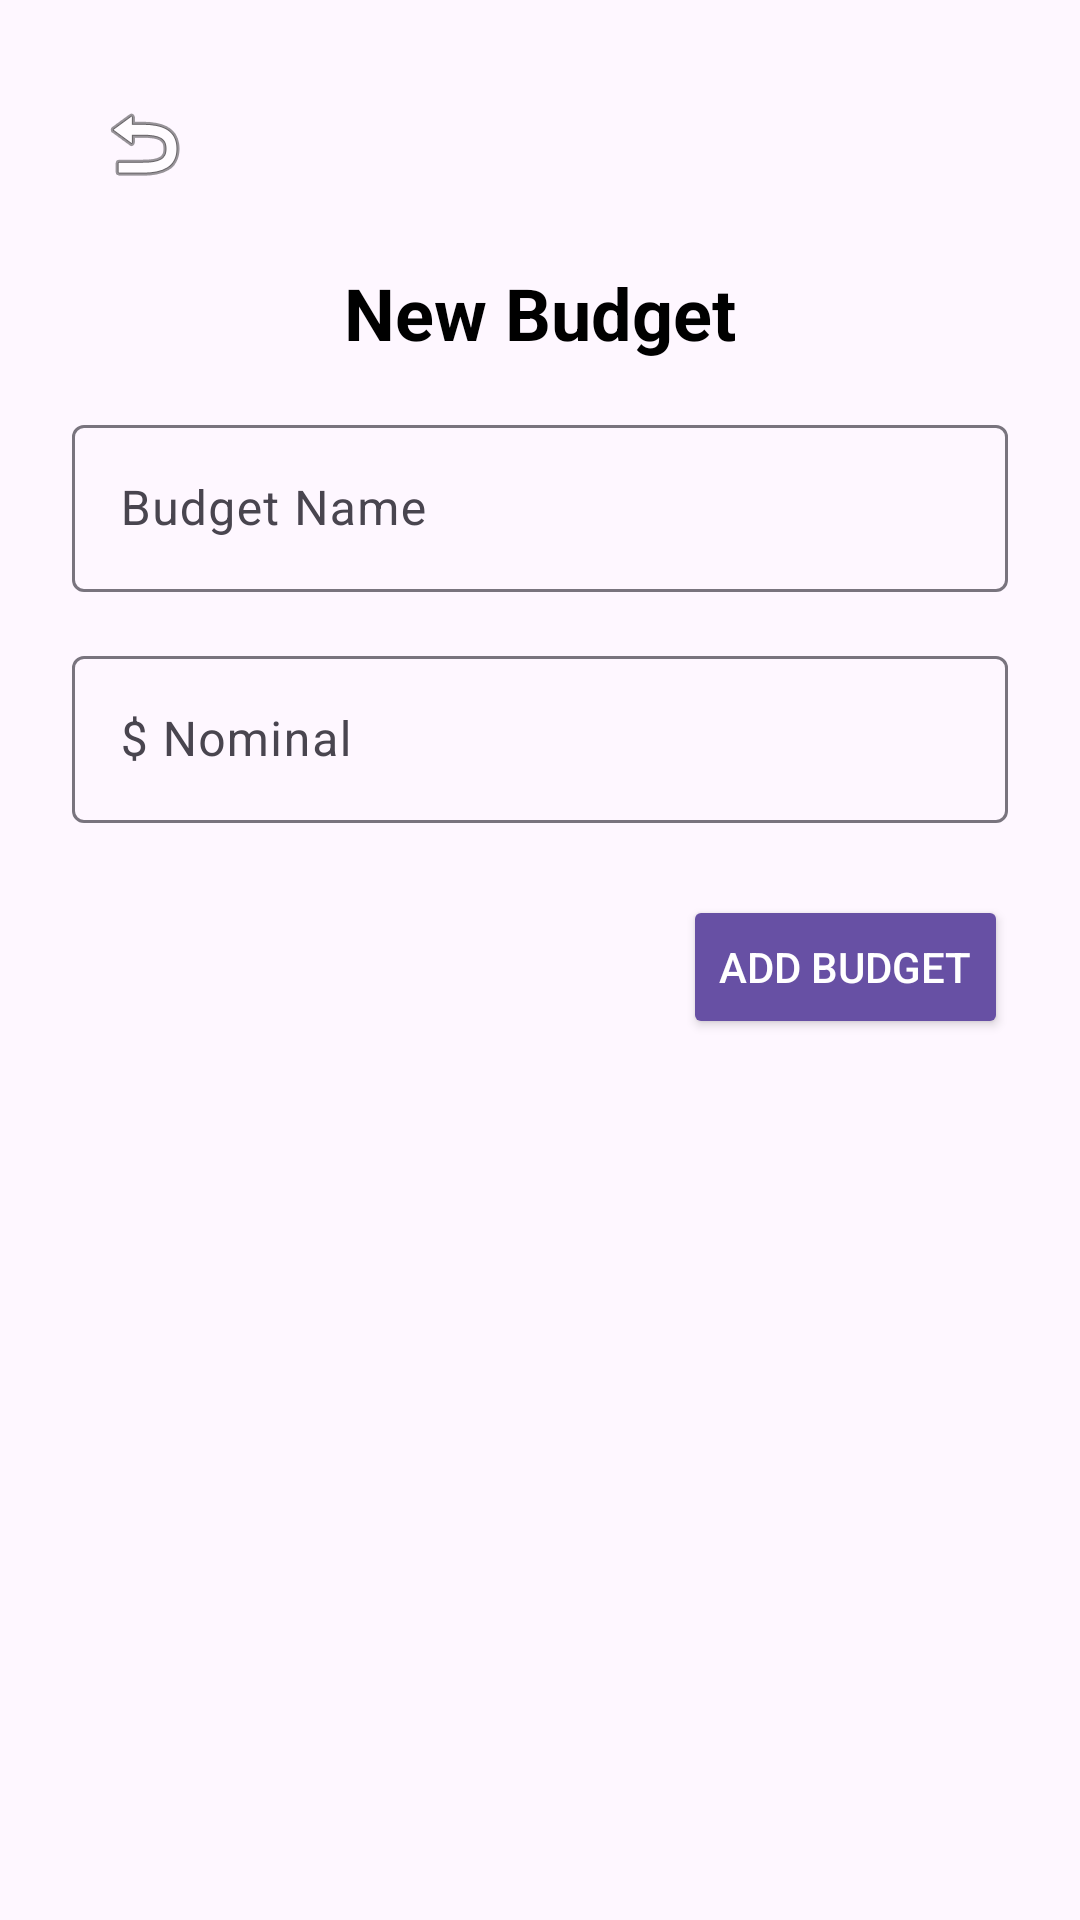

Icon bounding boxes for this 1080px×1920px phone screenshot, format [x1, y1, x2, y2]:
Back: [111, 113, 180, 176]
